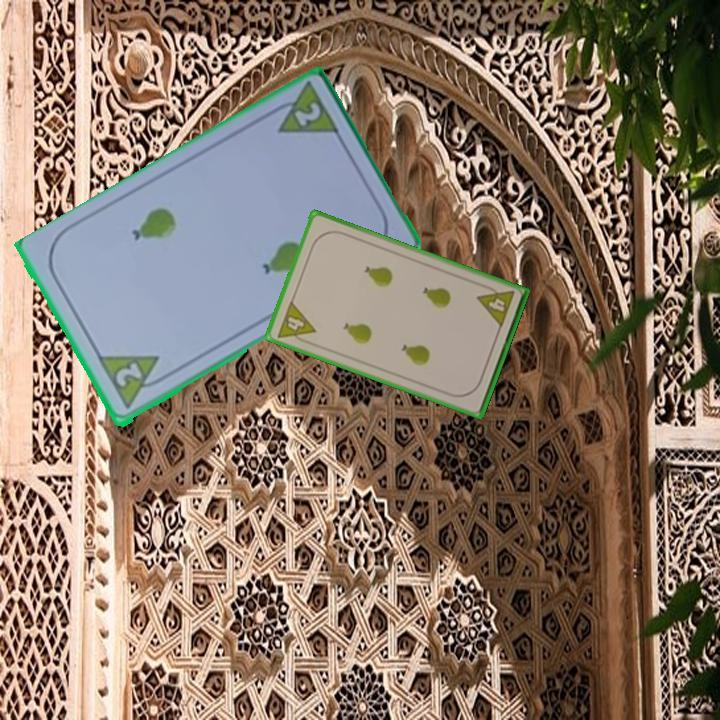2p: (111, 359, 145, 391), (290, 99, 324, 130)
4p: (273, 297, 318, 348), (474, 281, 517, 331)
